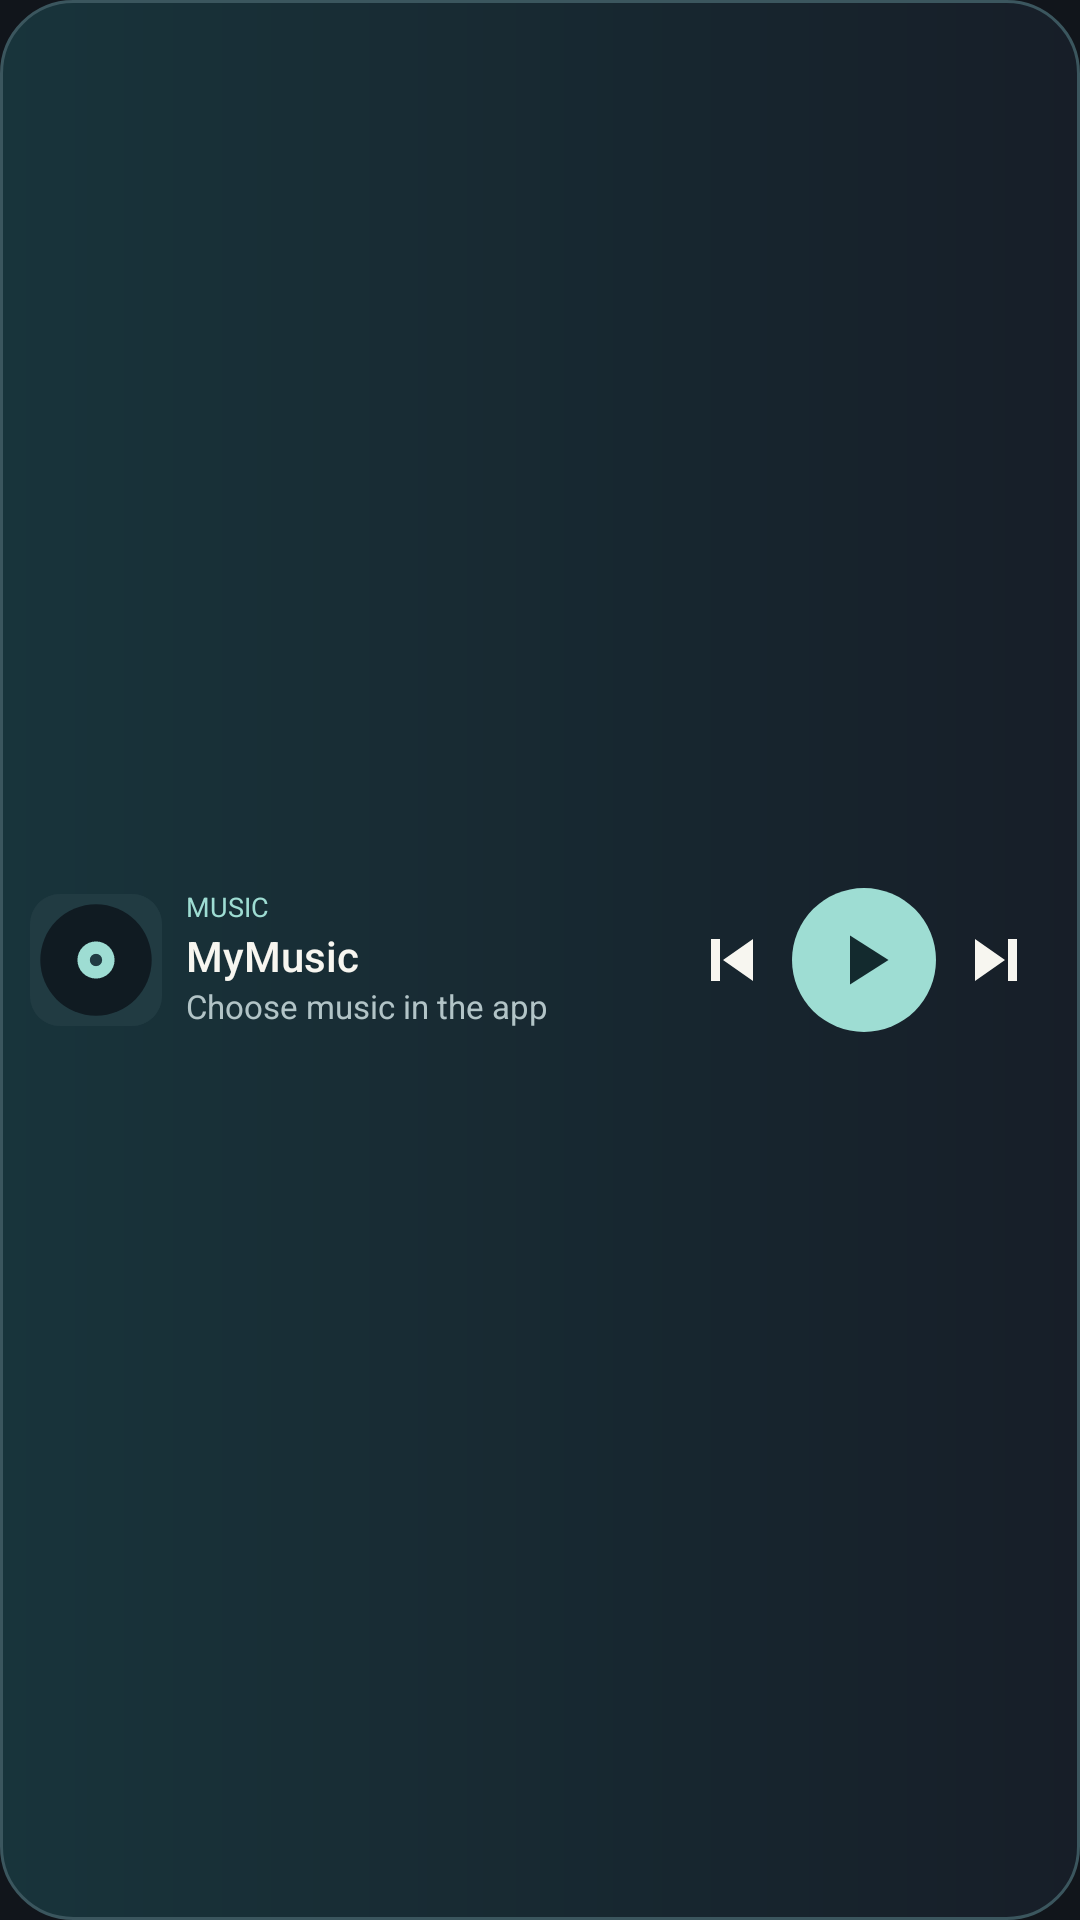

Locate icon controls on the screen. Image size 1080x1920, boxes as box(x1, y1, x2, y2).
Album artwork: box(30, 894, 162, 1026)
Next: box(975, 939, 1017, 981)
Play or pause: box(792, 888, 936, 1032)
Previous: box(711, 939, 753, 981)
